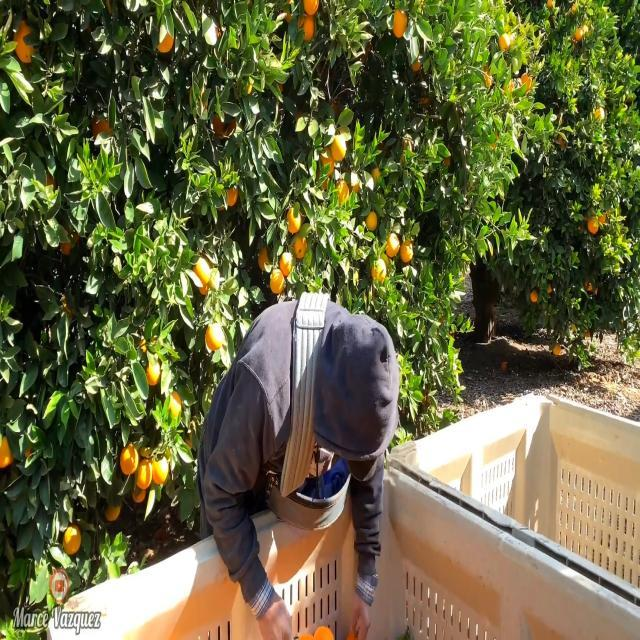Jeruk Sudah Matang: (12, 18, 42, 66), (90, 112, 116, 148), (190, 253, 214, 288), (154, 28, 176, 56), (206, 322, 226, 352), (143, 354, 163, 384), (220, 180, 240, 210), (0, 434, 18, 466), (284, 205, 303, 235), (119, 446, 138, 476), (62, 524, 81, 554), (153, 454, 169, 487), (296, 13, 316, 38), (269, 266, 286, 294), (370, 256, 388, 282), (386, 228, 400, 261), (393, 10, 409, 38), (398, 239, 414, 266), (332, 134, 347, 162), (279, 254, 298, 276), (334, 176, 348, 204), (322, 143, 334, 175), (294, 233, 308, 260), (302, 0, 322, 17), (499, 32, 513, 54), (257, 246, 272, 266), (521, 72, 533, 94), (367, 209, 377, 229), (552, 340, 562, 358), (584, 276, 594, 294), (589, 215, 598, 234), (544, 282, 554, 296), (530, 292, 538, 306)
